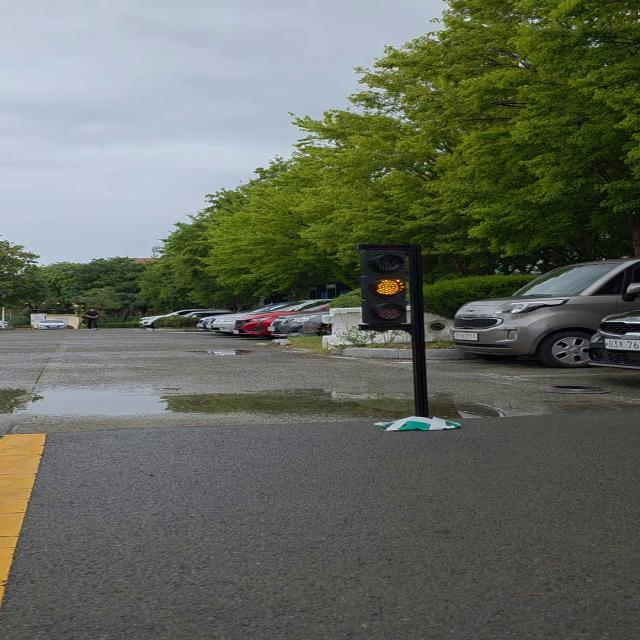yellow: (353, 241, 419, 333)
